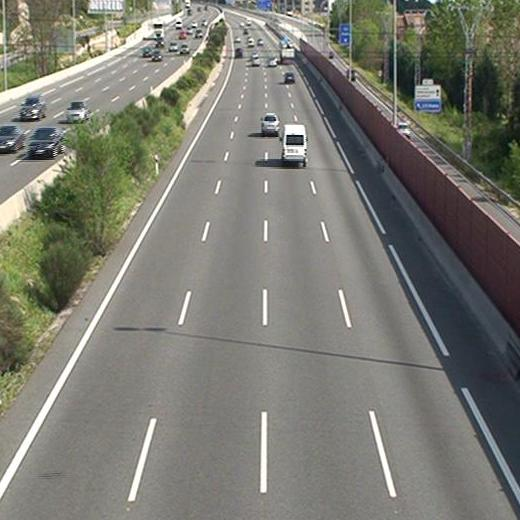car: (258, 113, 280, 135), (284, 70, 295, 85), (250, 56, 260, 66), (267, 57, 276, 67)
truck: (279, 40, 295, 63)
van: (281, 124, 308, 164)
